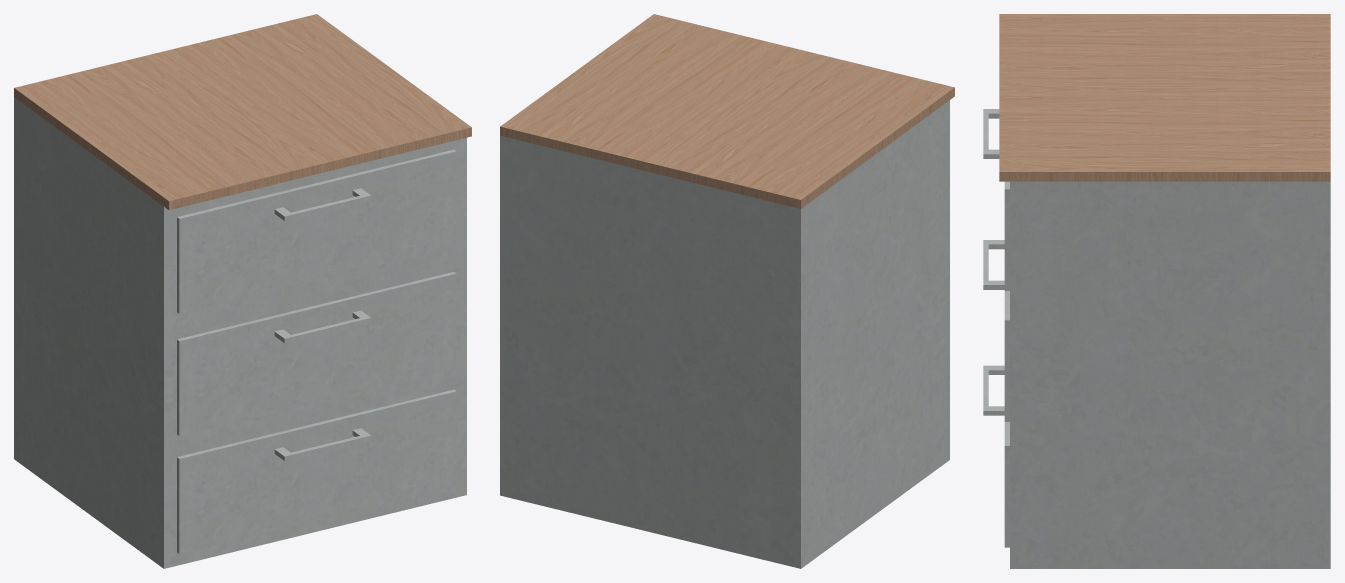
File: CajoneraGrande.glb
3 views of the same model, side by side, from view 1: azimuth 30°, elevation 25°; view 2: azimuth 150°, elevation 25°; view 3: azimuth 270°, elevation 25° (orthographic). The views are drawn at different scales.
Parts seen in each view (by area): view 1: CajoneraGrande, TapaCajoneraGrande, Puerta_MCG, Puerta_UCG, Puerta_BCG, Handle_UCG, Handle_BCG, Handle_MCG; view 2: CajoneraGrande, TapaCajoneraGrande; view 3: CajoneraGrande, TapaCajoneraGrande, Puerta_MCG, Puerta_BCG, Puerta_UCG, Handle_BCG, Handle_MCG, Handle_UCG.
Boxes of the visible parts, <box> form: CajoneraGrande: <box>14,97,466,568</box>; TapaCajoneraGrande: <box>14,14,471,210</box>; Puerta_MCG: <box>177,272,456,436</box>; Puerta_UCG: <box>177,149,456,313</box>; Puerta_BCG: <box>177,389,456,553</box>; Handle_UCG: <box>274,188,371,220</box>; Handle_BCG: <box>274,428,371,460</box>; Handle_MCG: <box>274,310,371,343</box>; CajoneraGrande: <box>500,100,949,568</box>; TapaCajoneraGrande: <box>500,14,954,208</box>; CajoneraGrande: <box>1010,181,1330,568</box>; TapaCajoneraGrande: <box>999,14,1330,181</box>; Puerta_MCG: <box>1004,291,1009,421</box>; Puerta_BCG: <box>1004,422,1009,547</box>; Puerta_UCG: <box>1004,181,1009,290</box>; Handle_BCG: <box>983,365,1004,415</box>; Handle_MCG: <box>983,240,1004,289</box>; Handle_UCG: <box>983,109,999,158</box>.
Bounding box in the file's own units: 0.7 × 0.82 × 0.65.
Materials: 2 (2 with a texture image).
